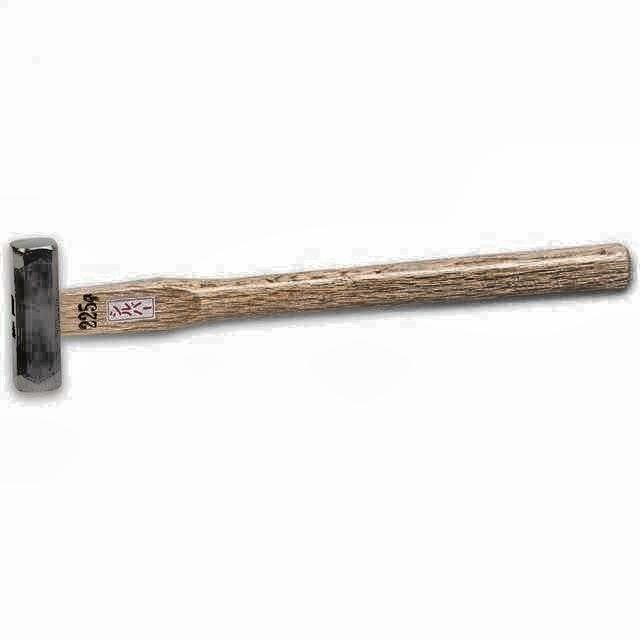hammer: (8, 234, 628, 394)
